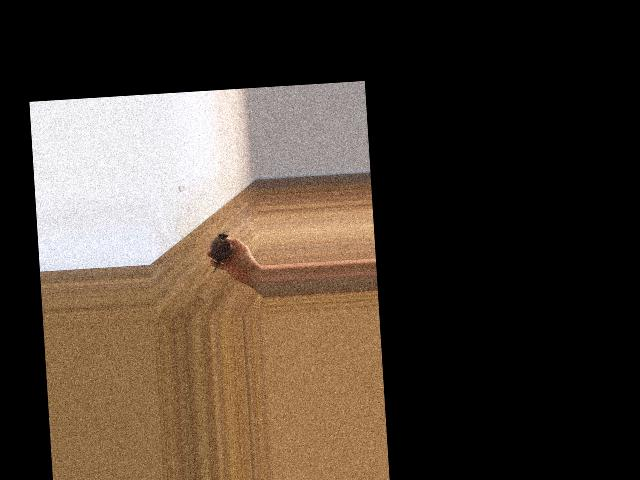beet: (208, 232, 233, 272)
